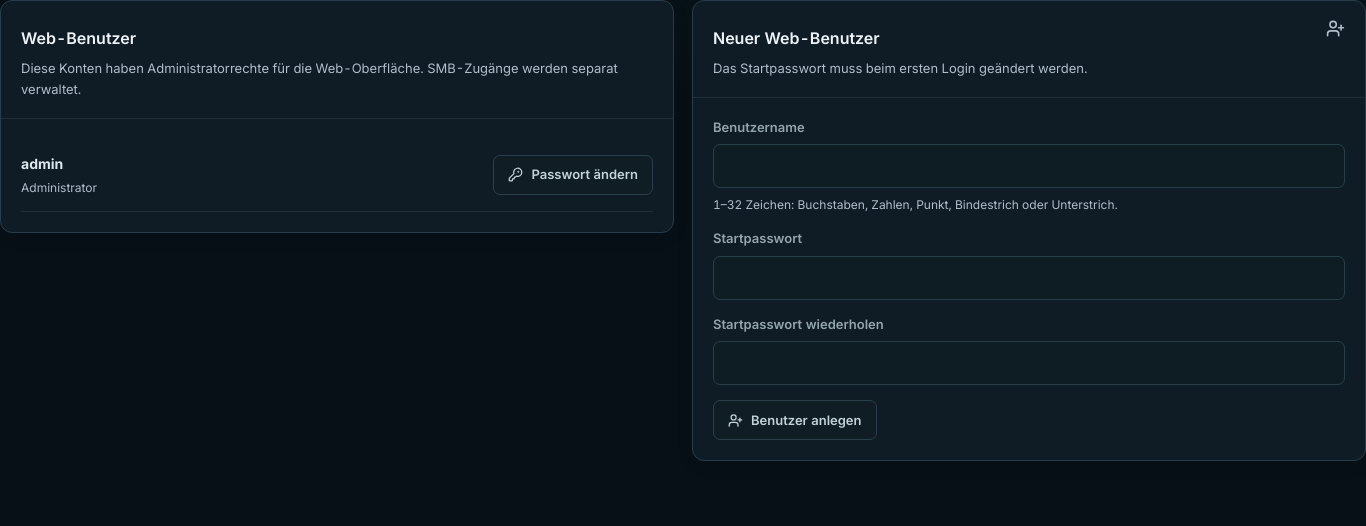
Test: creates a web account, requires matching passwords, and clears the secret
Check: the text "admin" is shown, box left=21, top=155, right=63, bottom=172
In the field labelled "Benutzername": [1029, 166] box left=713, top=144, right=1345, bottom=188, type "alice"
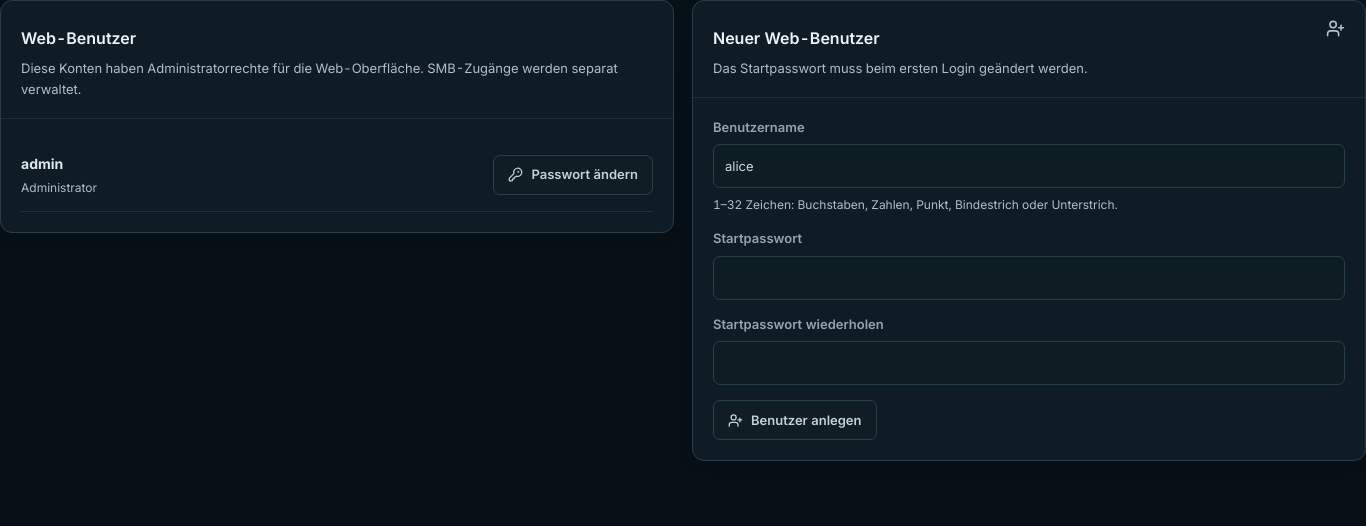
In the password field labelled "Startpasswort": [1029, 278] box left=713, top=256, right=1345, bottom=300, type "initial-alice-password"
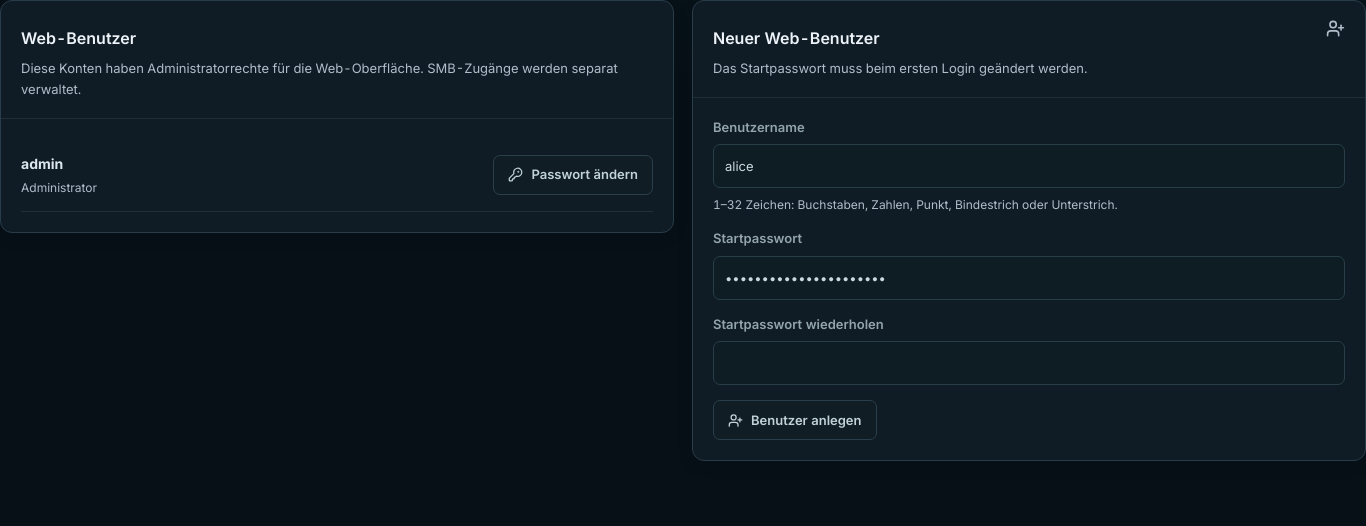
In the password field labelled "Startpasswort wiederholen": [1029, 364] box left=713, top=342, right=1345, bottom=386, type "different-password"
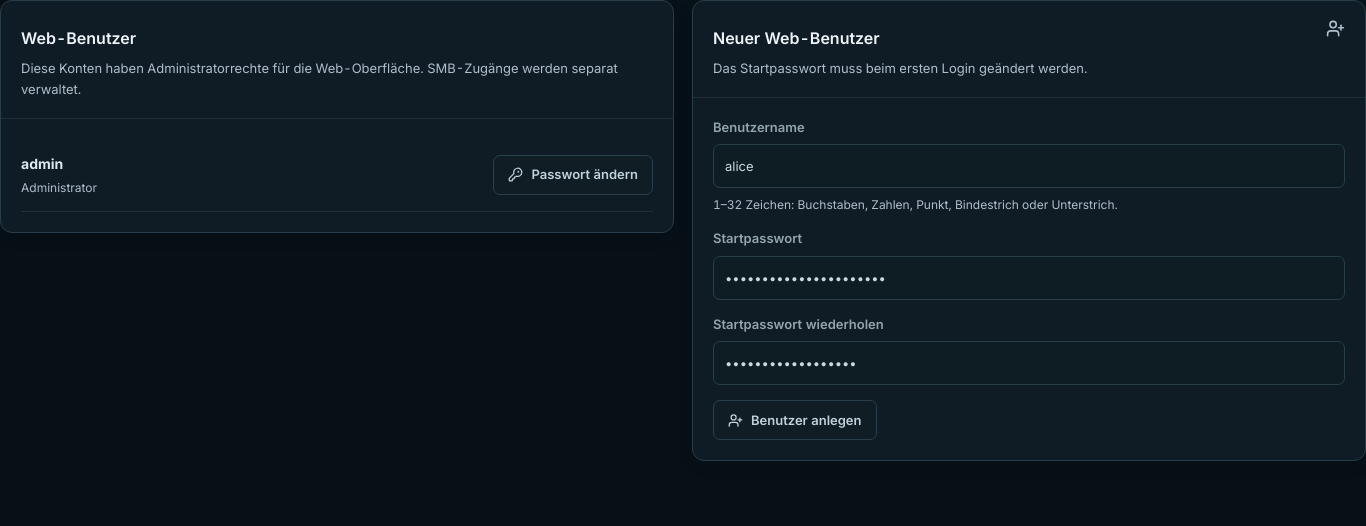
Click the button "Benutzer anlegen": [795, 420] box left=713, top=400, right=876, bottom=440
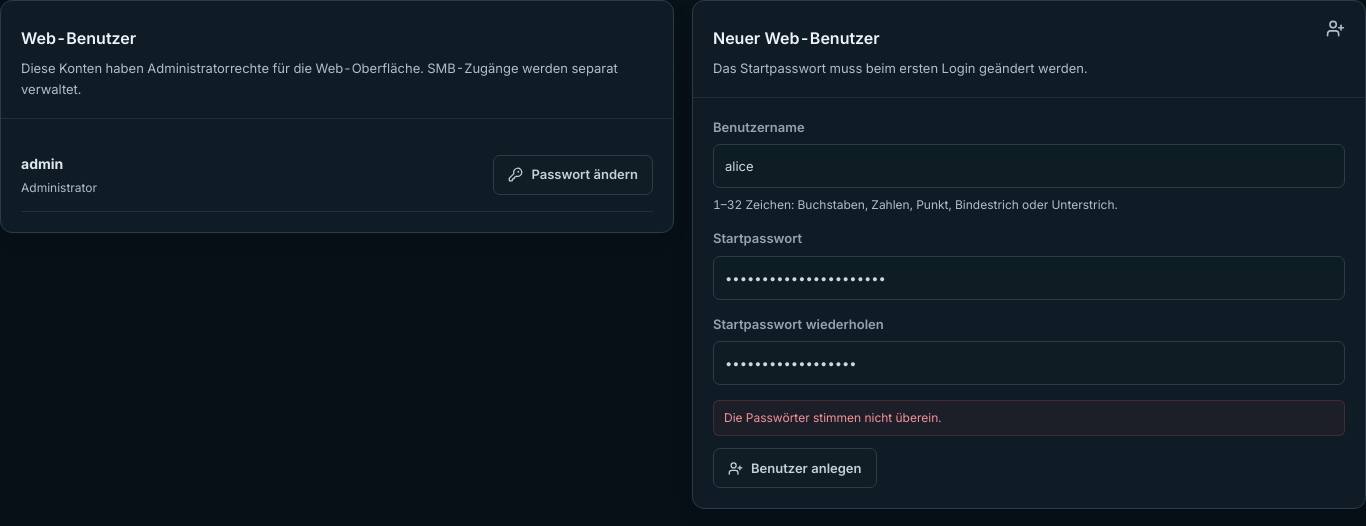
Check: the message reads "Die Passwörter stimmen nicht überein.", box left=724, top=410, right=942, bottom=426
In the password field labelled "Startpasswort wiederholen": [1029, 364] box left=713, top=342, right=1345, bottom=386, type "initial-alice-password"
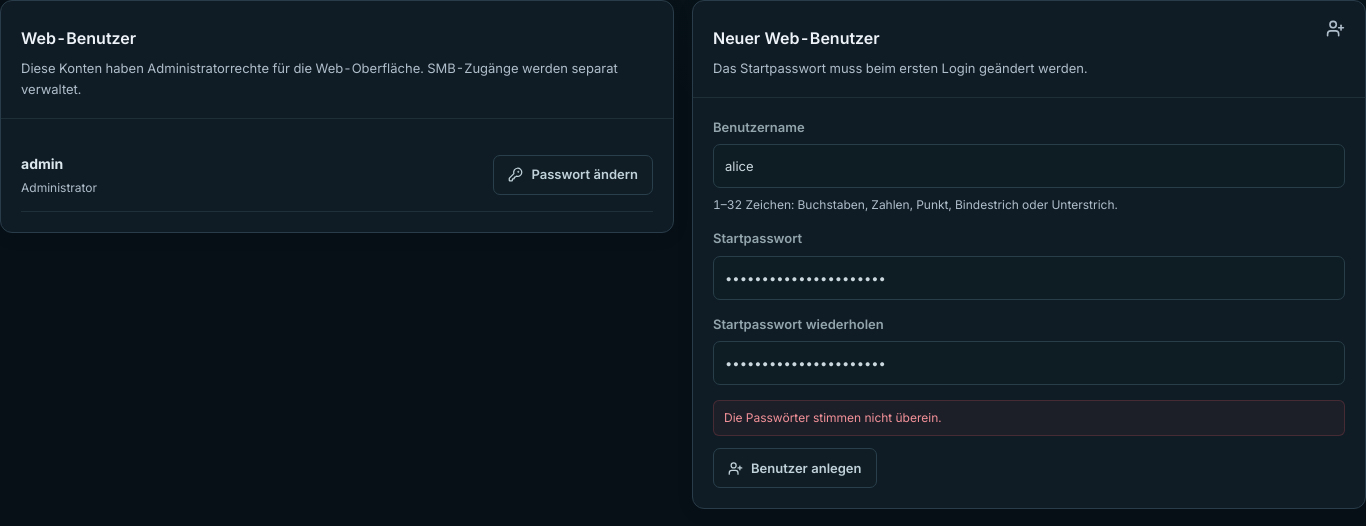
Click the button "Benutzer anlegen": [795, 468] box left=713, top=448, right=876, bottom=488
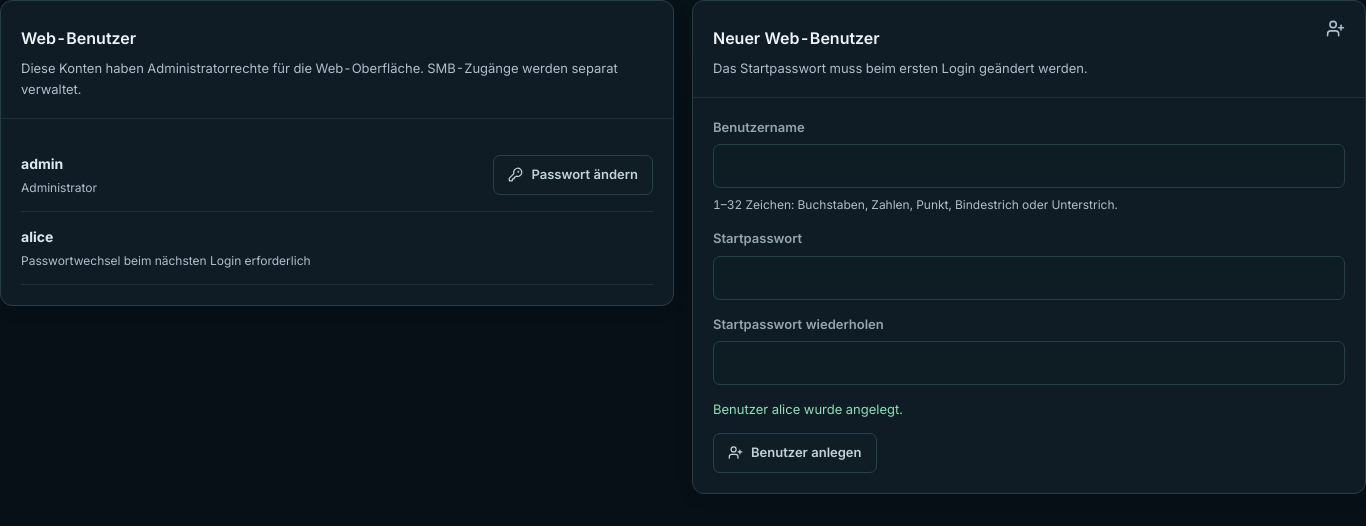
Check: the message reads "Benutzer alice wurde angelegt.", box left=713, top=402, right=903, bottom=418
Check: the password field labelled "Startpasswort" is empty, box left=713, top=256, right=1345, bottom=300
Check: the text "Passwortwechsel beim nächsten Login erforderlich" is shown, box left=21, top=252, right=311, bottom=270
